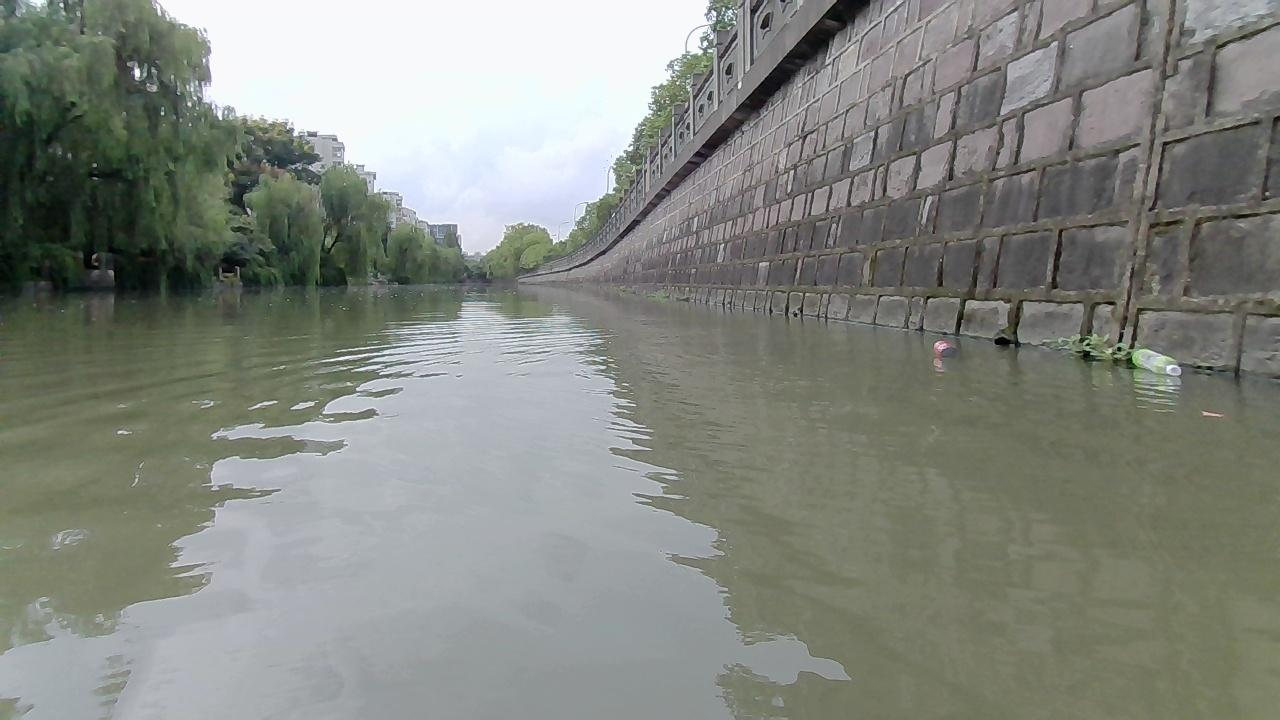bottle: (1131, 347, 1180, 375), (932, 339, 958, 357)
